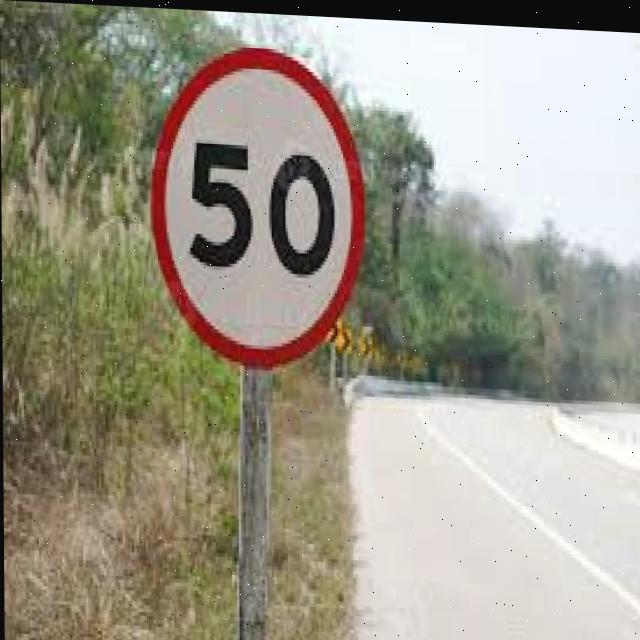Speed limit 50: (146, 35, 369, 373)
